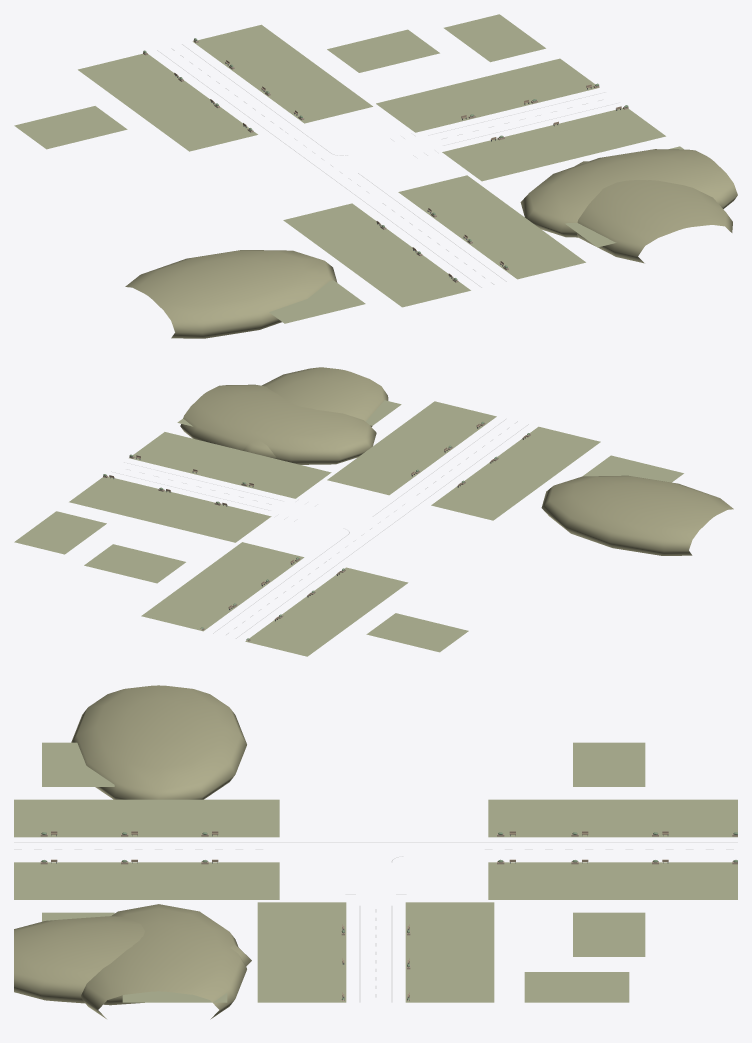
3 views of the same model, one above another, from view 1: azimuth 30°, elevation 25°; view 2: azimuth 150°, elevation 25°; view 3: azimuth 270°, elevation 25° (orthographic). The views are drawn at different scales.
Parts seen in each view (by area): view 1: static; view 2: static; view 3: static.
Part boxes in pixels (left/top/right/bottom): static: left=14, top=14, right=737, bottom=338; static: left=14, top=367, right=733, bottom=656; static: left=14, top=685, right=737, bottom=1019.
Size of what is drawn, in the model's own units: 180 by 14.08 by 180.
